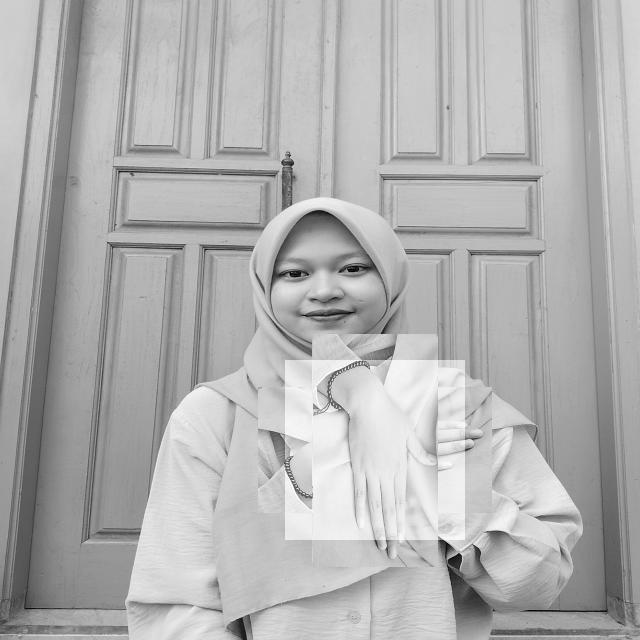tolong: (285, 360, 465, 540)
